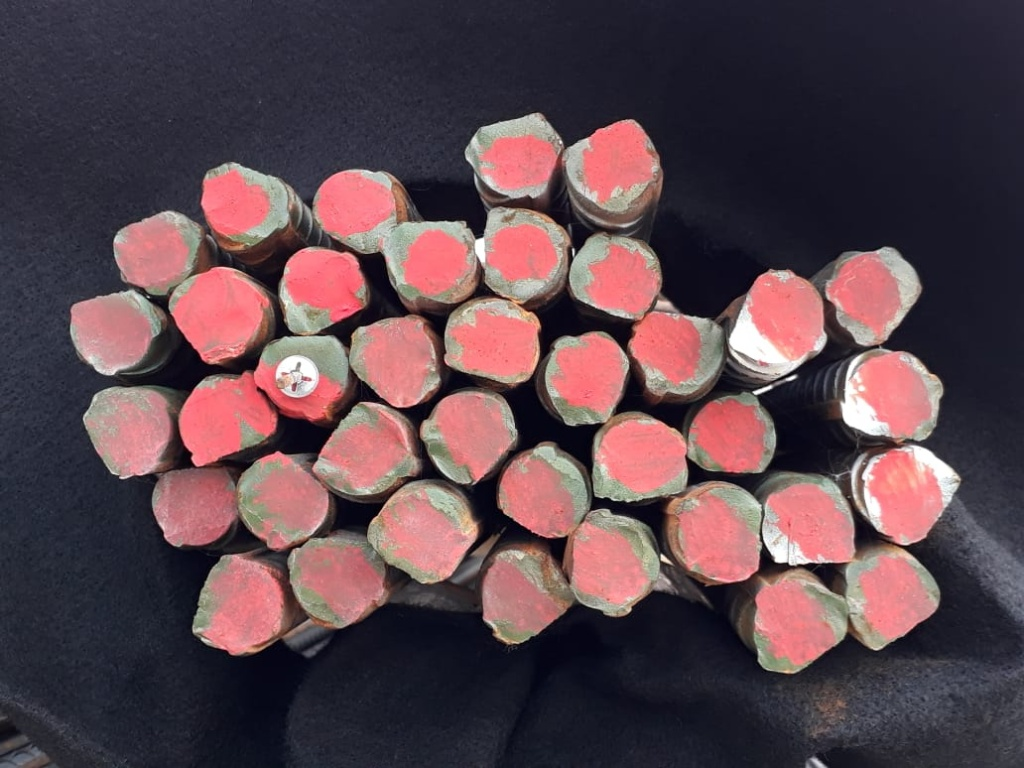dipstick: (834, 346, 949, 448), (854, 444, 966, 548), (730, 271, 828, 380), (367, 486, 474, 583), (188, 554, 289, 655), (845, 550, 943, 654), (562, 116, 661, 215), (674, 479, 766, 584), (830, 242, 920, 349), (166, 264, 266, 360), (477, 543, 569, 647), (751, 580, 849, 674), (179, 372, 279, 464), (284, 537, 385, 628), (569, 513, 657, 617), (239, 450, 331, 547), (446, 296, 541, 389), (425, 390, 519, 482), (255, 332, 349, 424), (765, 480, 860, 571), (462, 114, 563, 199), (349, 313, 438, 406), (632, 312, 727, 399), (478, 207, 566, 300), (545, 329, 631, 424), (312, 162, 399, 255), (195, 159, 289, 245), (591, 420, 690, 501), (497, 446, 584, 538), (82, 386, 169, 478), (570, 230, 658, 319), (280, 245, 368, 333), (111, 208, 200, 294), (65, 291, 156, 375), (690, 392, 776, 476), (152, 465, 239, 547), (388, 222, 472, 303)
